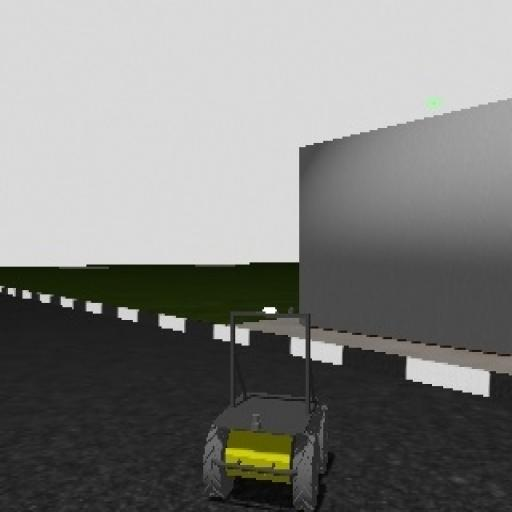huskya200: (203, 298, 326, 512)
